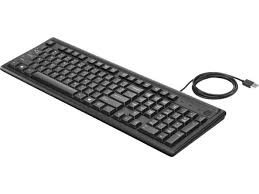keyboard: (0, 36, 227, 157)
